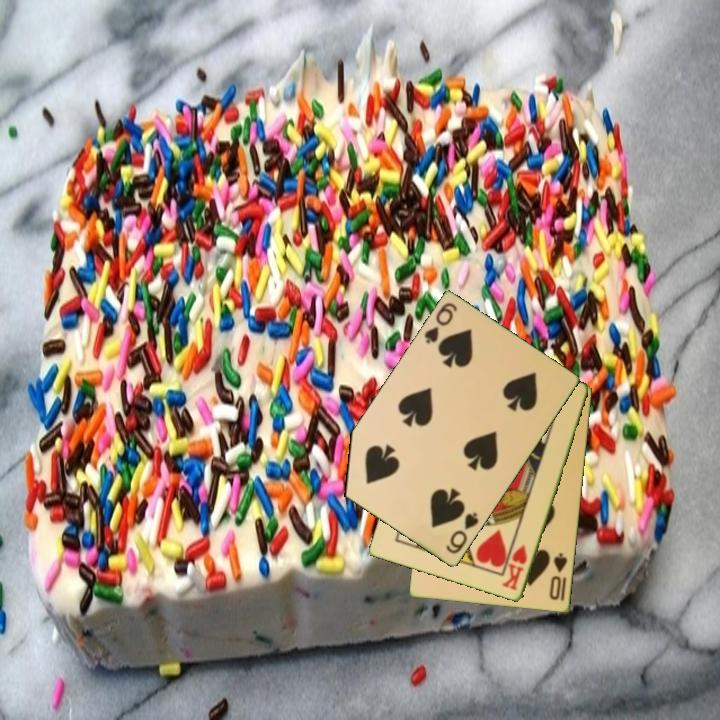10s: (546, 550, 570, 604)
6s: (443, 509, 482, 557), (421, 299, 460, 347)
Kh: (499, 542, 530, 593)
